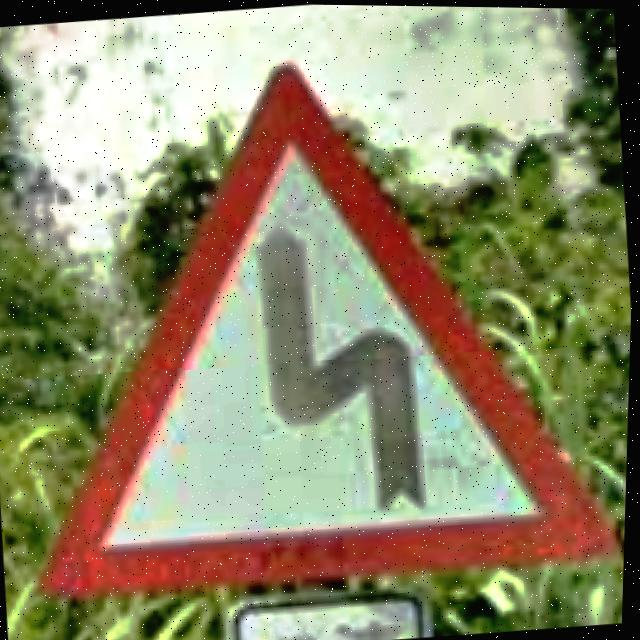doublebendleft: (42, 62, 625, 601)
